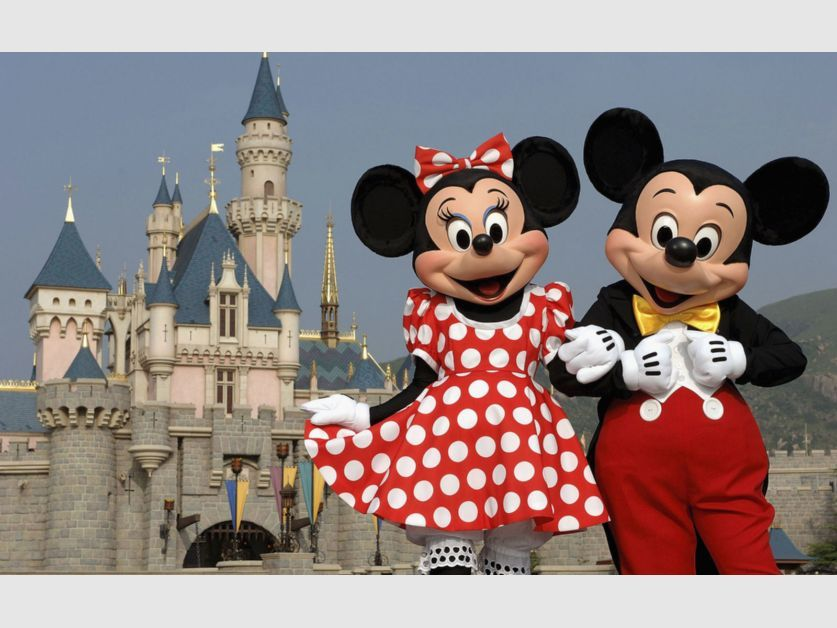Mickey: (581, 95, 831, 317)
